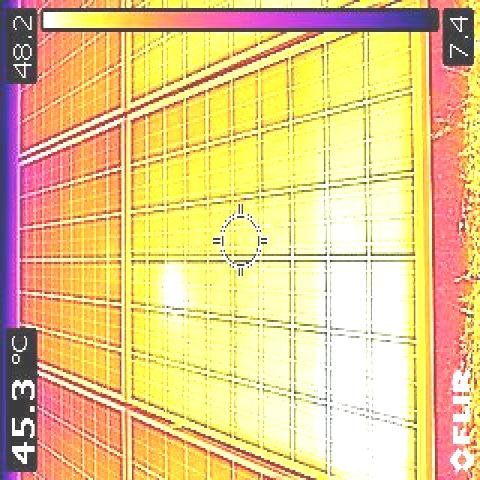fault: (328, 262, 408, 480), (165, 259, 185, 306)
